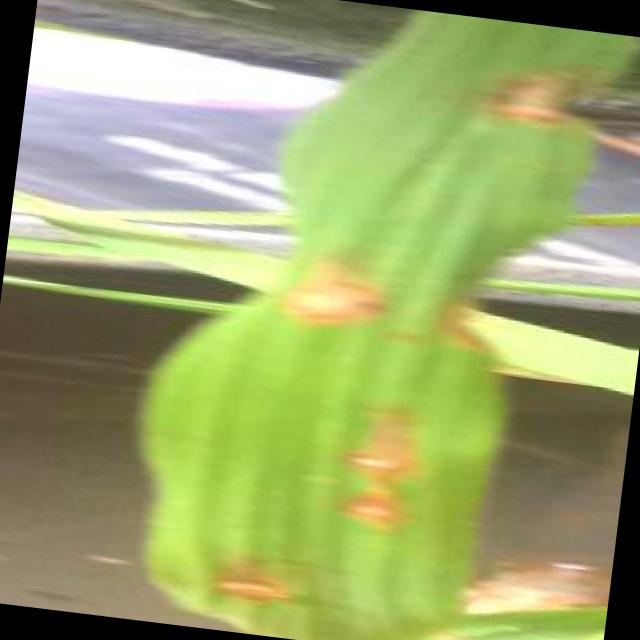Rice_Blast: (150, 488, 333, 630), (252, 225, 407, 353), (304, 382, 448, 493), (472, 50, 596, 157), (315, 473, 418, 546)
